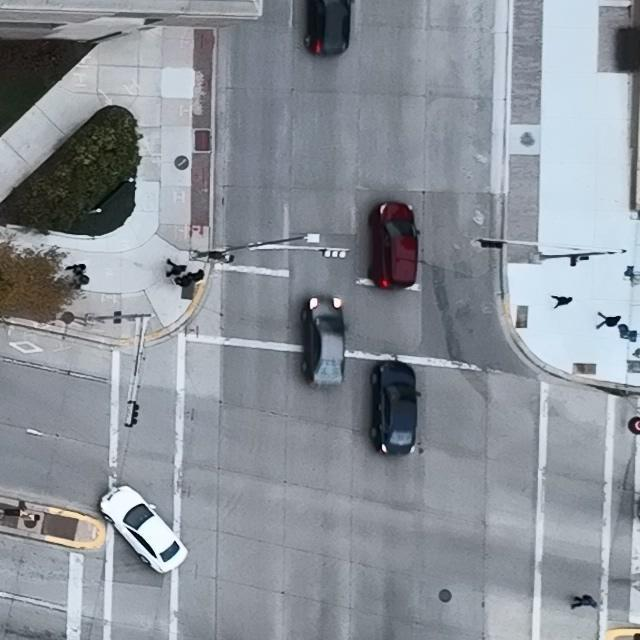car: (100, 486, 188, 574), (369, 361, 422, 457), (369, 202, 421, 290), (300, 296, 346, 389), (304, 0, 355, 56)
